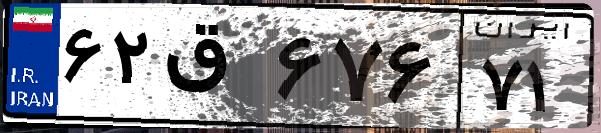1: (525, 38, 570, 115)
2: (110, 28, 158, 98)
6: (270, 28, 330, 110), (385, 28, 445, 110), (57, 26, 110, 100)
7: (330, 28, 385, 110), (475, 38, 525, 113)
ق: (158, 20, 270, 120)
